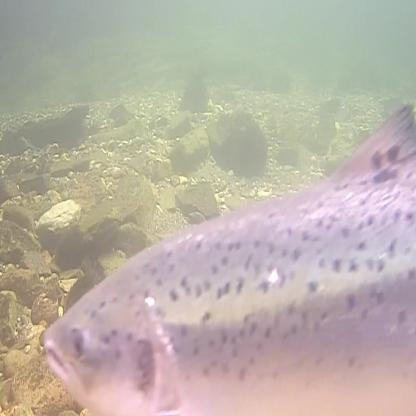salmon: (38, 92, 416, 415)
